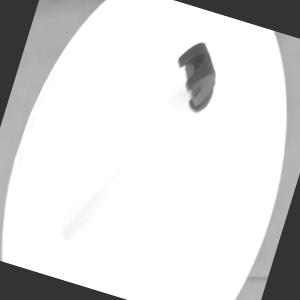martelo: (52, 16, 228, 273)
